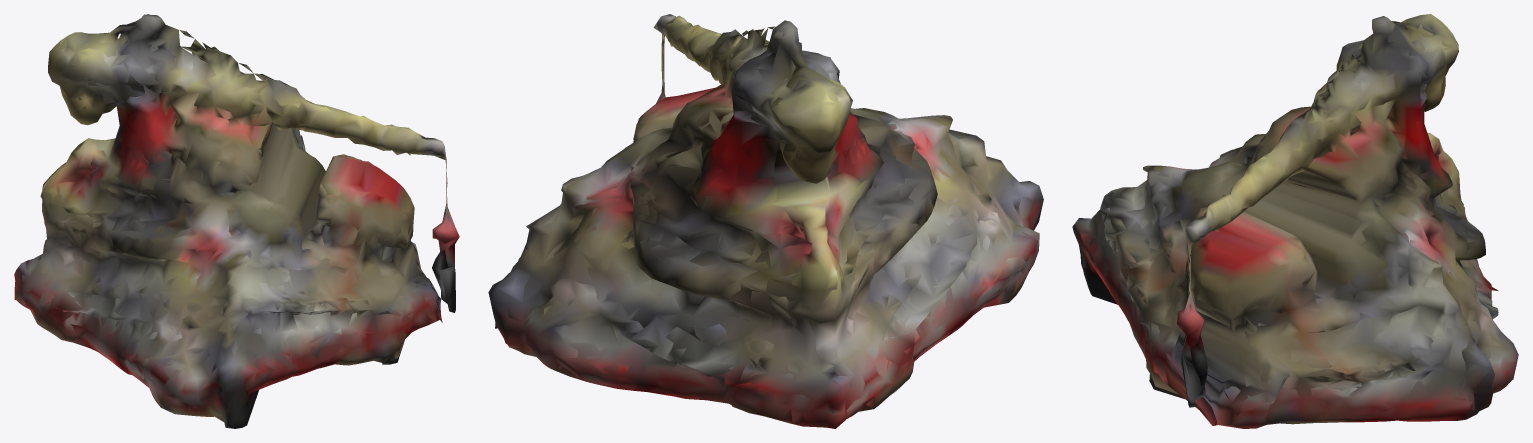
The model's file is soviet_naval_shipyard.glb.
3 views of the same model, side by side, from view 1: azimuth 30°, elevation 25°; view 2: azimuth 150°, elevation 25°; view 3: azimuth 270°, elevation 25° (orthographic). The views are drawn at different scales.
Parts seen in each view (by area): view 1: soviet_naval_shipyard; view 2: soviet_naval_shipyard; view 3: soviet_naval_shipyard.
Boxes of the visible parts, x1,y1,x2,y2 form: soviet_naval_shipyard: (14, 14, 459, 428); soviet_naval_shipyard: (488, 14, 1043, 428); soviet_naval_shipyard: (1072, 14, 1518, 428).
Size of the model in its own units: 1.71 by 1.5 by 2.
